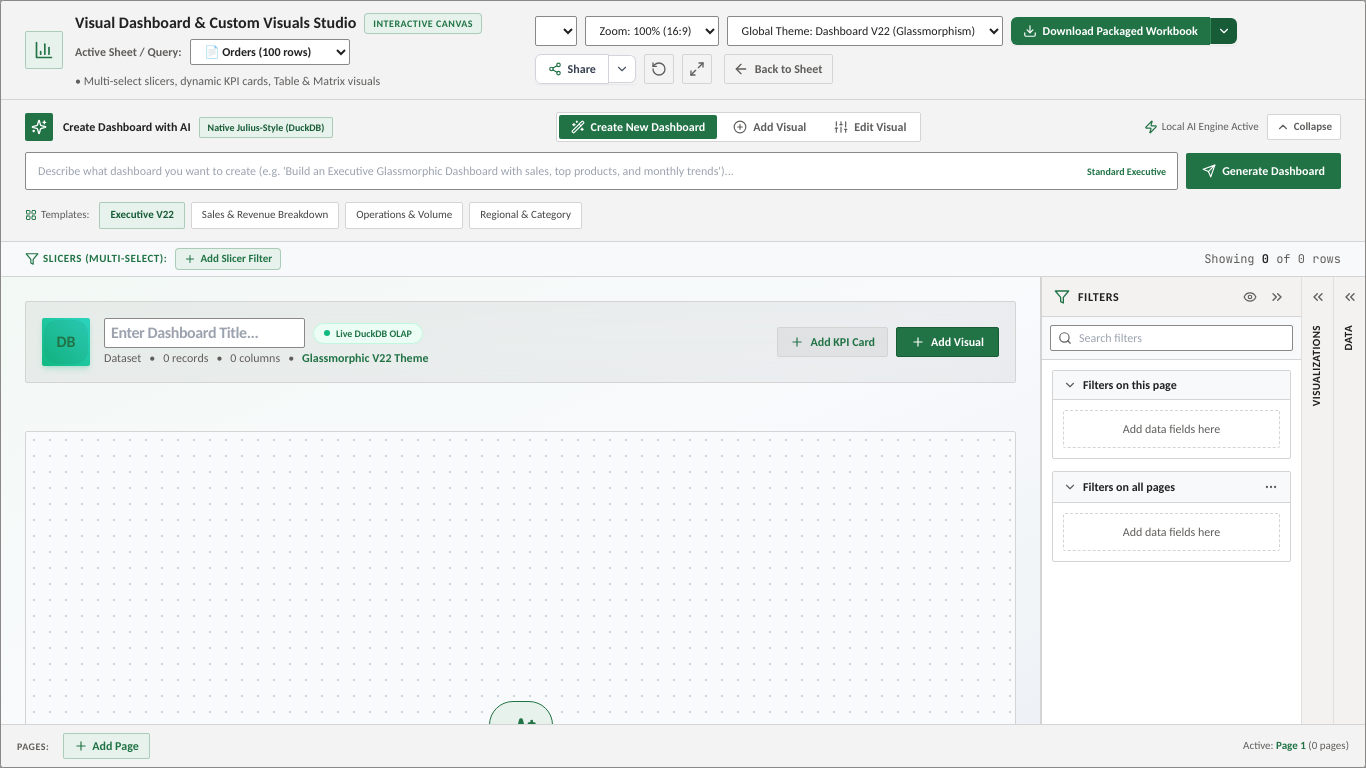
DashboardModal Power BI-Style Panes (Filters | Visualizations | Data) › renders Download and Share buttons in the dashboard portion and opens dropdowns
Expected: the button with test id "dashboard-download-btn" is shown, [1011,17,1210,45]
Expected: the button with test id "dashboard-share-btn" is shown, [535,54,609,84]
Click Download dropdown chevron to open options
Step 1. Click the button with test id "dashboard-download-dropdown-btn" → [1223, 31], box [1210,18,1237,44]
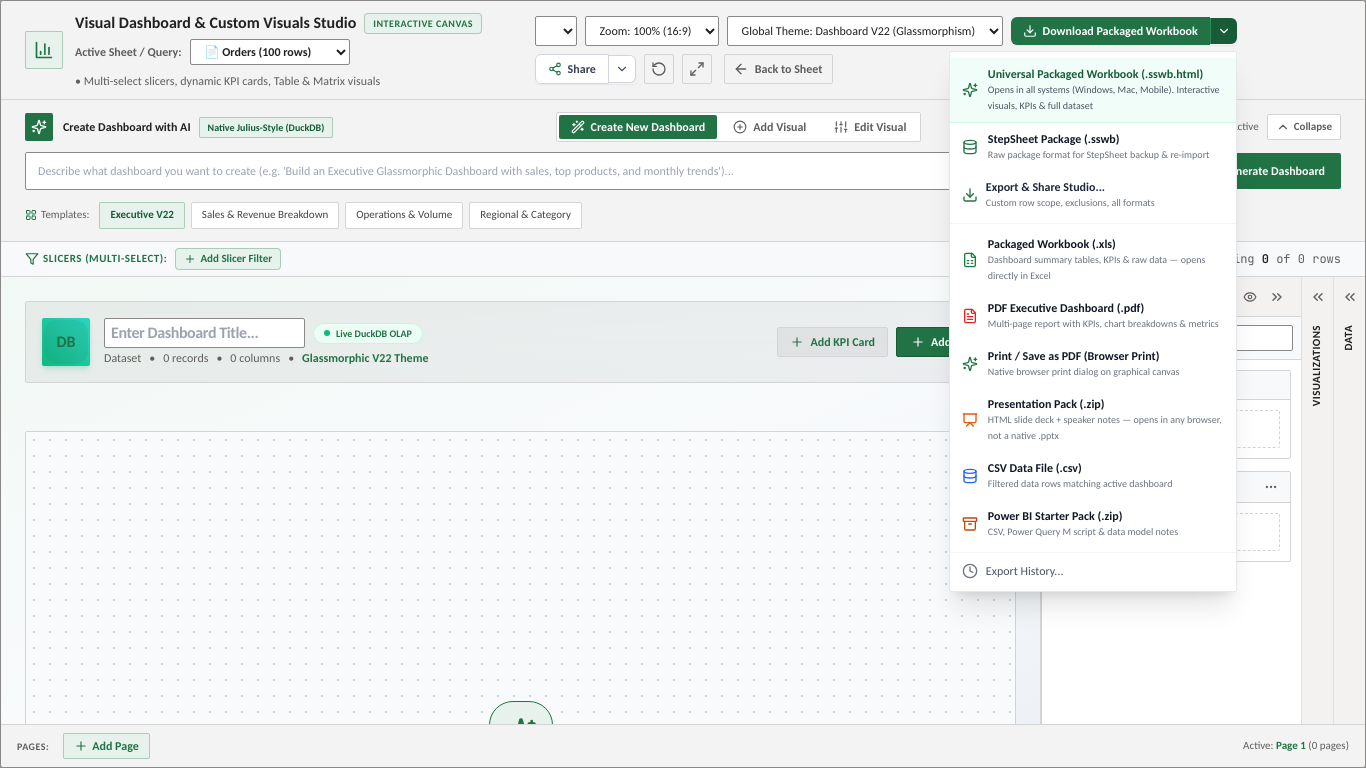
Result: the text "Universal Packaged Workbook (.sswb.html)" is shown at [988,66,1224,82]
Result: the text "StepSheet Package (.sswb)" is shown at [988,132,1120,146]
Result: the text "Export & Share Studio..." is shown at [986,180,1105,194]
Click Share dropdown chevron to open share options
Step 2. Click the button with test id "dashboard-share-dropdown-btn" → [622, 69], box [609,55,636,83]
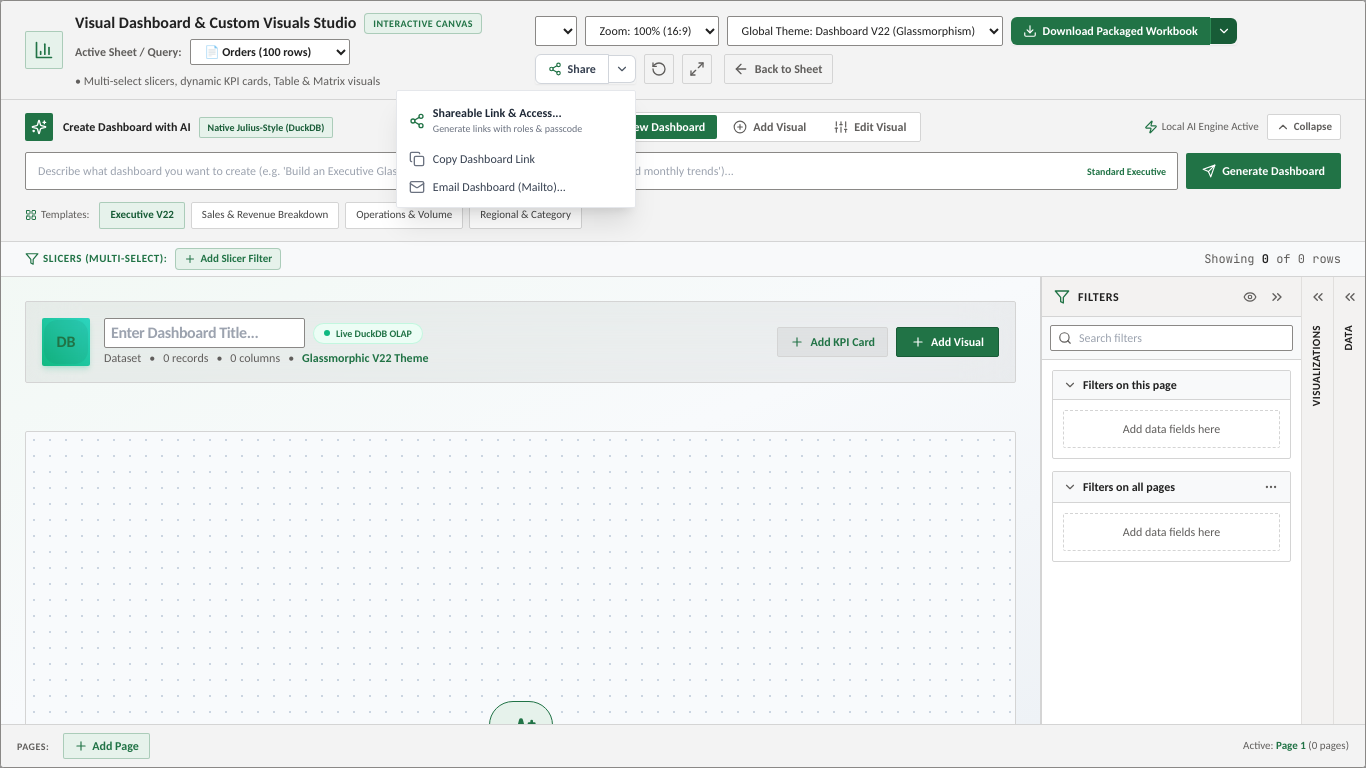
Result: the text "Shareable Link & Access..." is shown at [433,105,582,121]
Result: the text "Copy Dashboard Link" is shown at [433,151,535,167]
